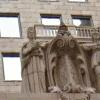Statue: (15, 18, 100, 100)
